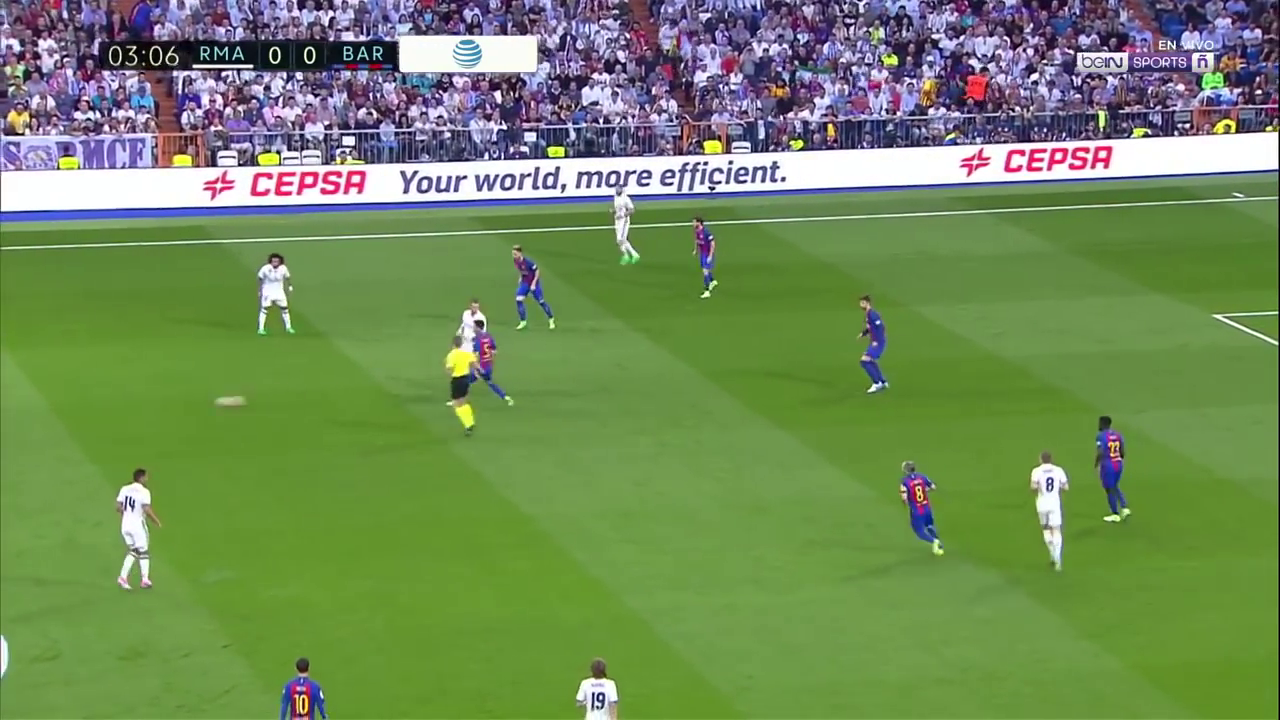ball: (213, 395, 230, 412)
player: (115, 463, 163, 593), (444, 321, 514, 408), (1026, 451, 1071, 575), (895, 459, 947, 559), (1091, 415, 1135, 527), (508, 243, 558, 332), (252, 251, 298, 340), (853, 296, 890, 397), (446, 335, 479, 441), (277, 655, 327, 720), (574, 656, 619, 720), (607, 184, 641, 267), (688, 216, 720, 303), (455, 297, 488, 339)
